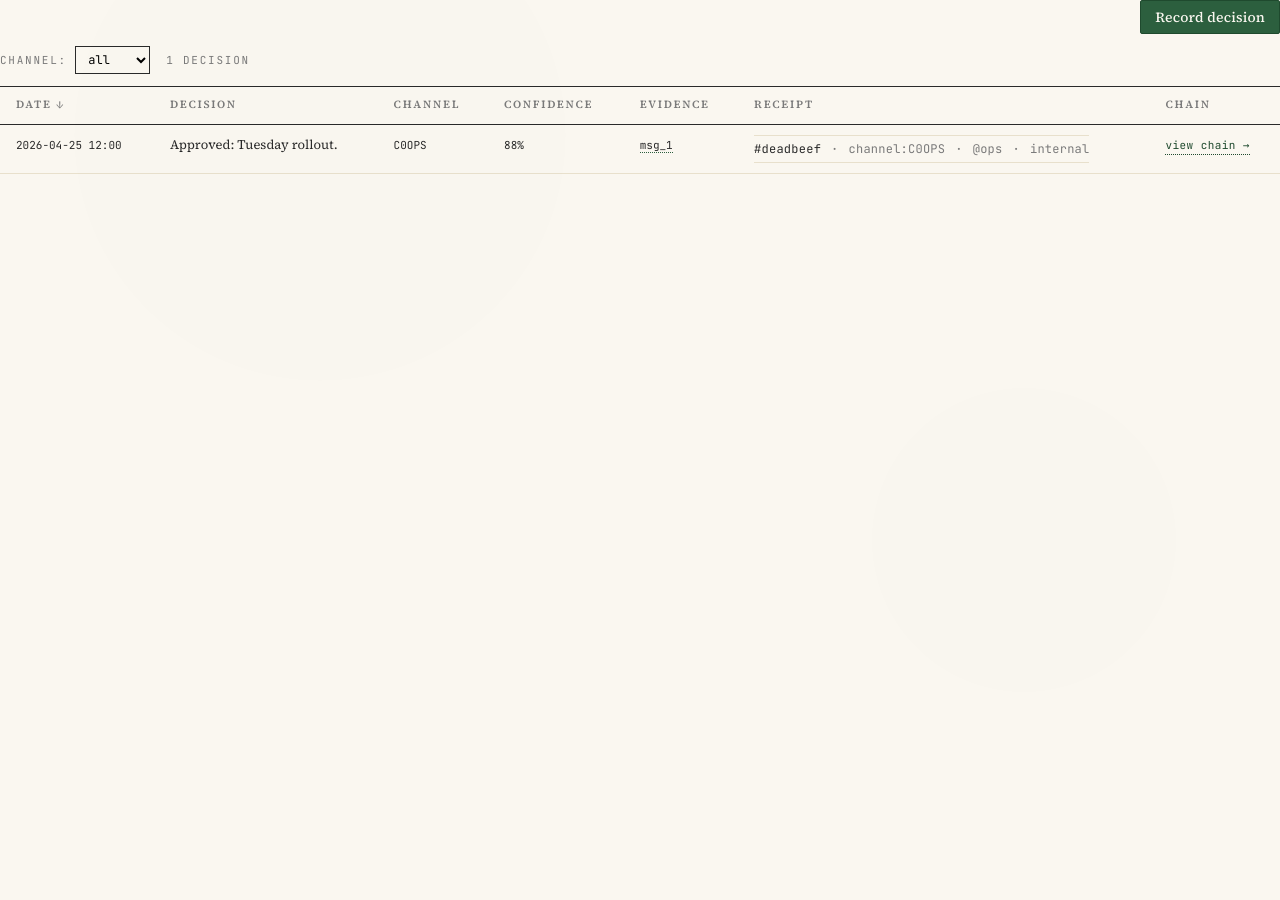
DecisionsClient › opens the record drawer when the header CTA is clicked
The image size is (1280, 900).
Click the button with test id "decisions-record-open".
click(1210, 17)  # box [1140,0,1279,34]
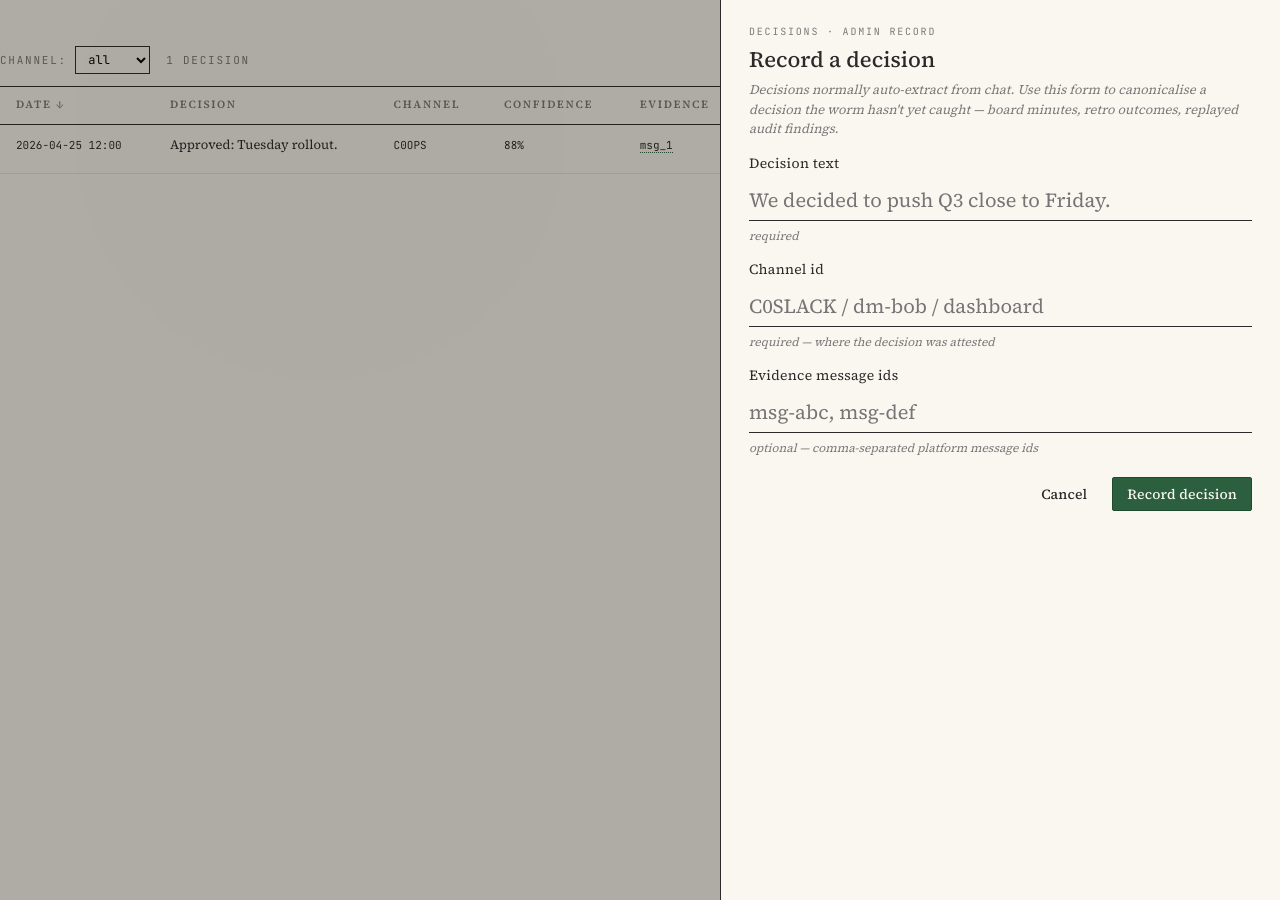
Check: the dialog with test id "decision-detail-drawer" is shown
Check: the form with test id "decision-record-form" is shown, box [749,24,1252,510]
